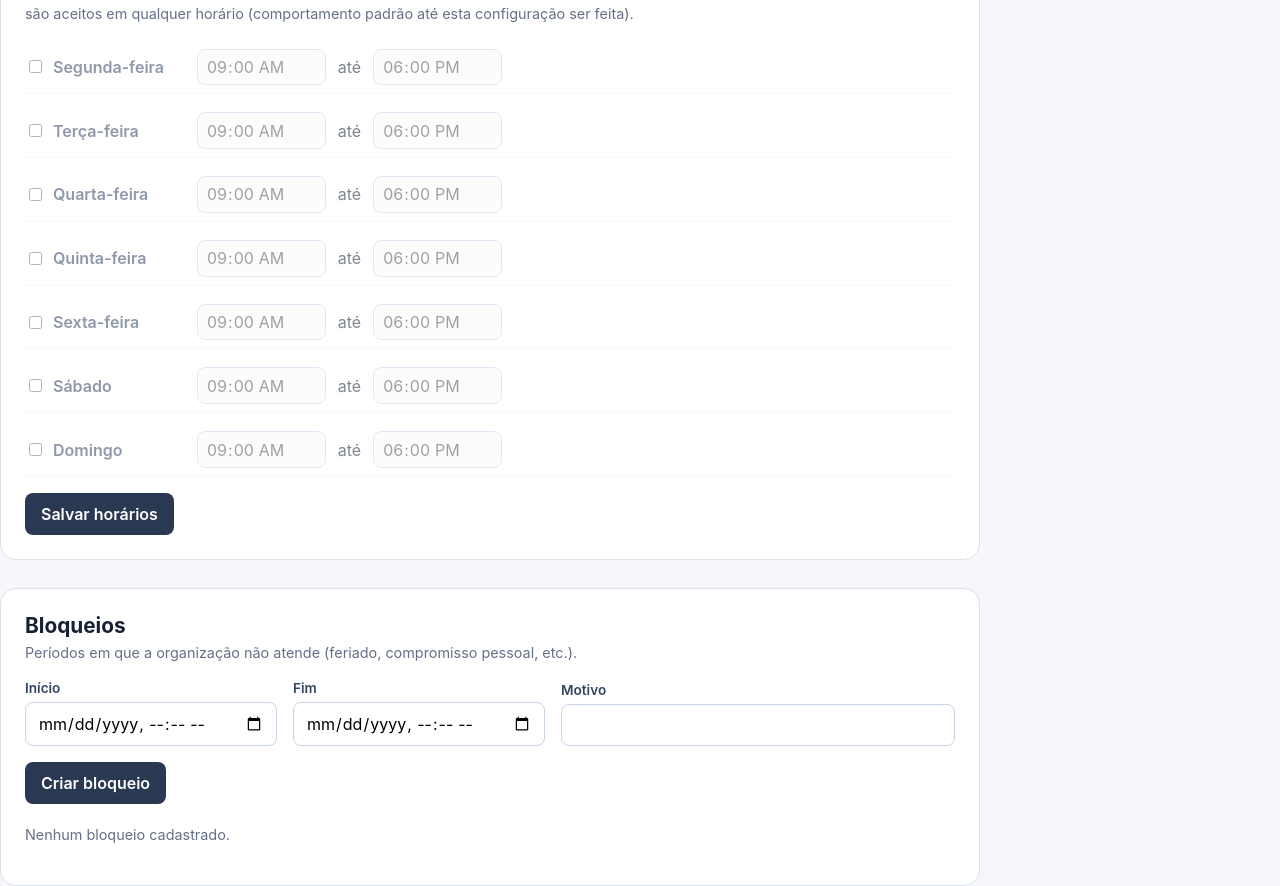
Test: SettingsPageComponent › creates a block and lists it
(page scrolled)
Type "2026-08-01T12:00" into the field with id "blockStartAt" at (151, 724), box [25,702,277,746]
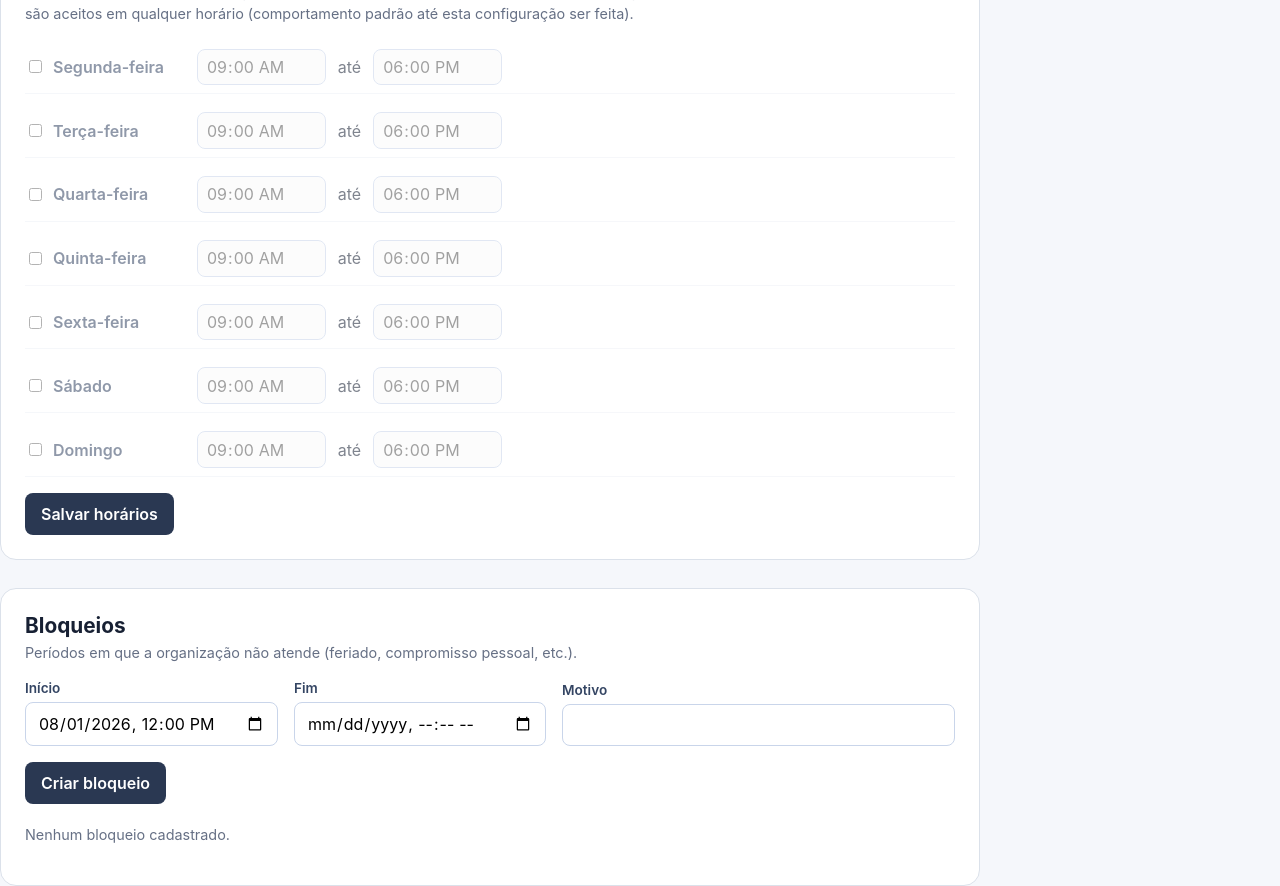
Type "2026-08-01T13:00" into the field with id "blockEndAt" at (420, 724), box [294,702,546,746]
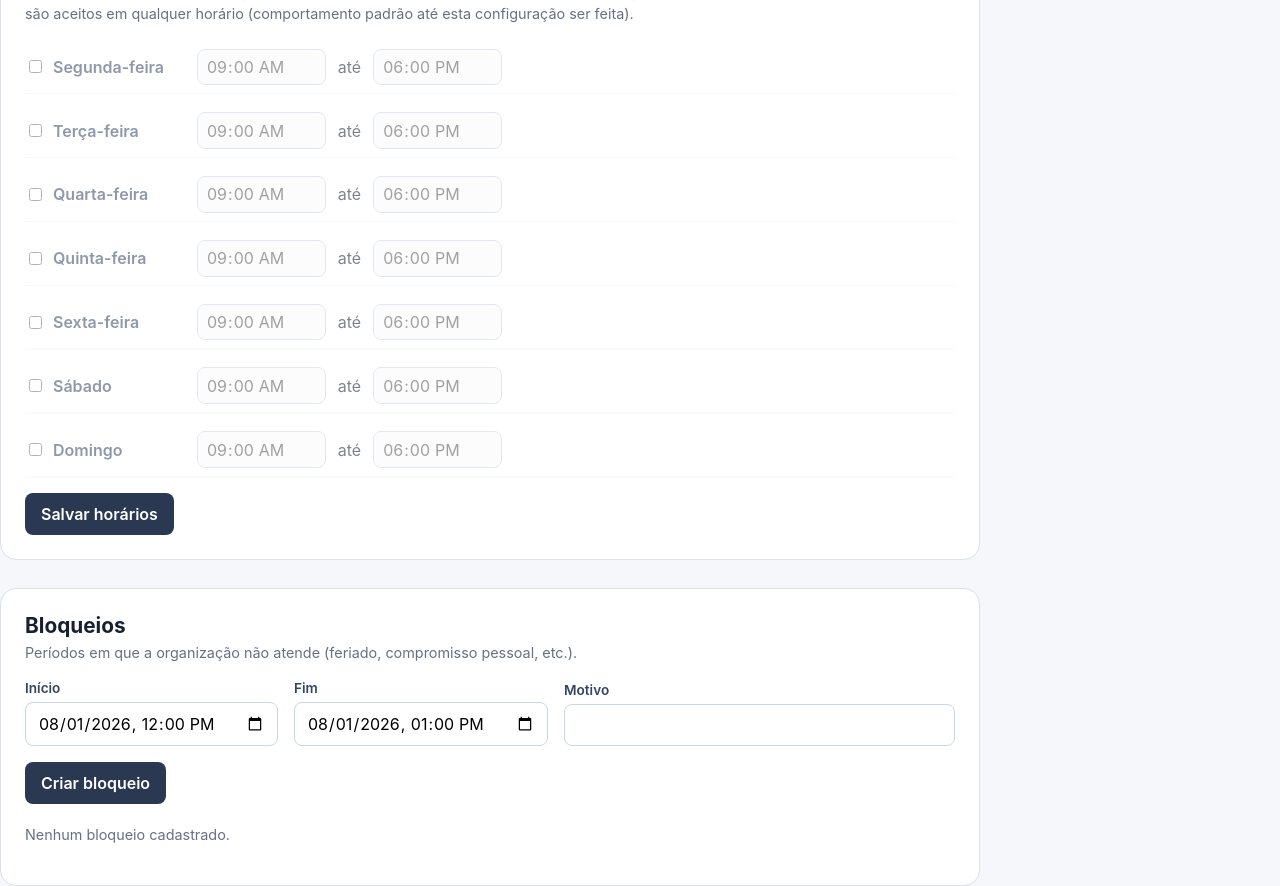
Type "Almoço" into the field with id "blockReason" at (760, 725), box [564,704,955,746]
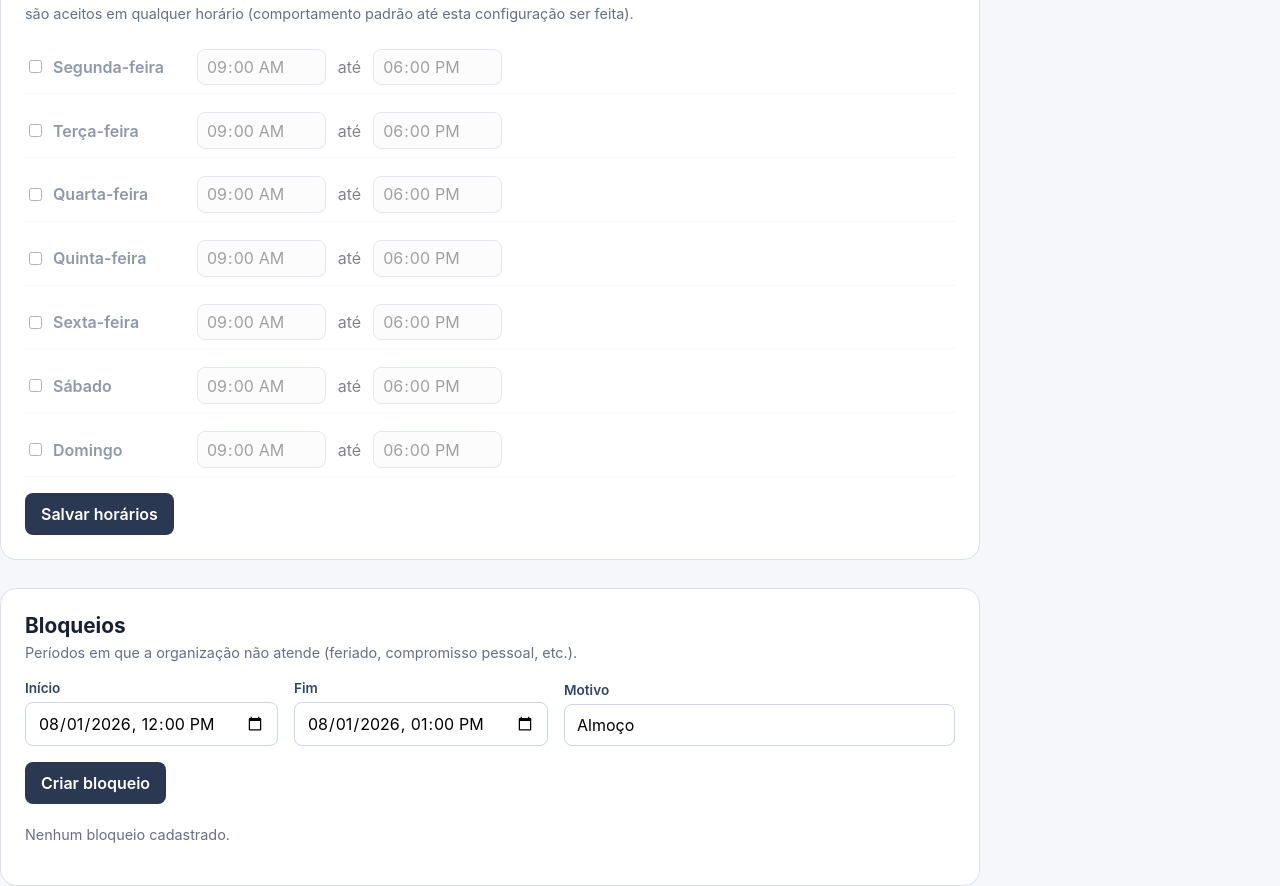
Submit the form with class "block-form", box [25,680,955,804]
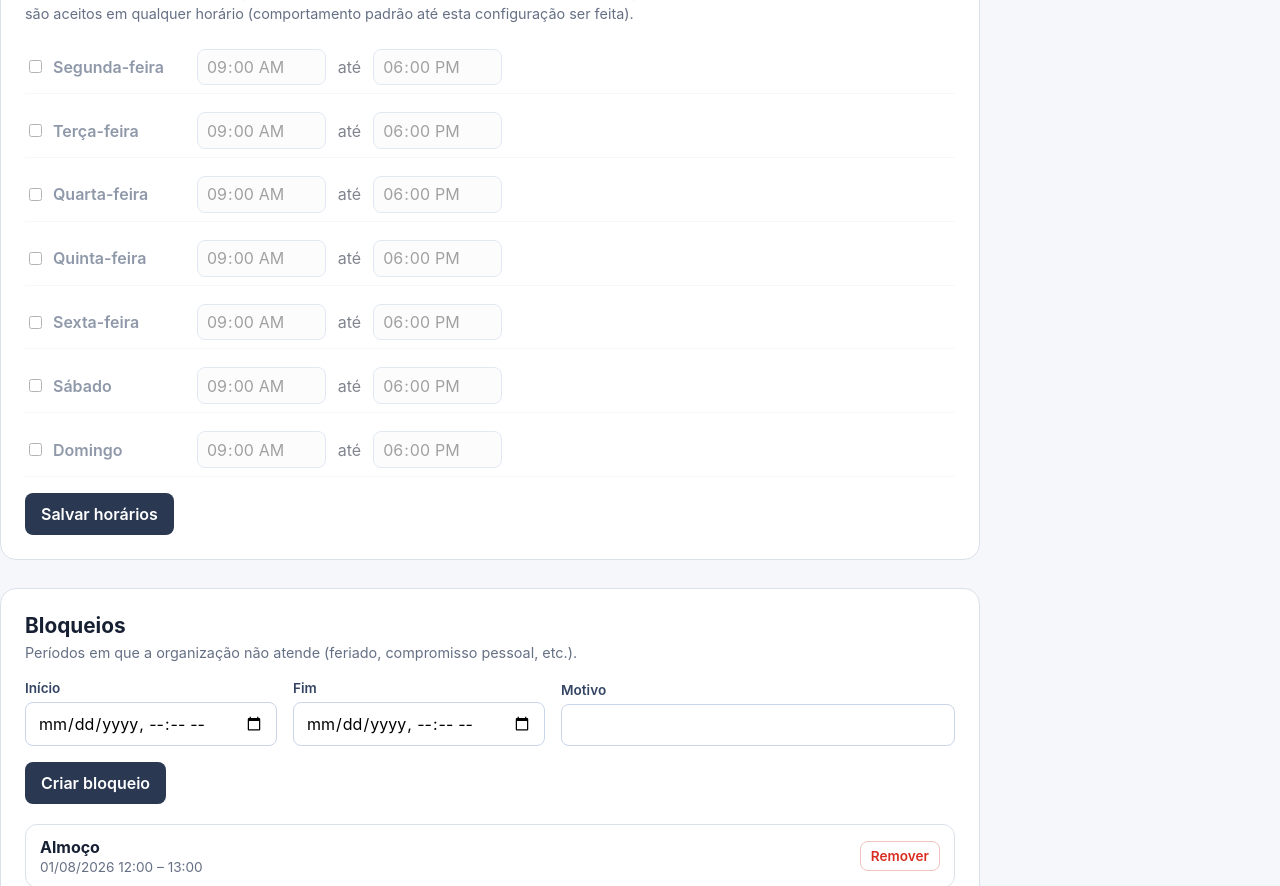
Expected: the text "Almoço" is shown, [40,837,100,857]
